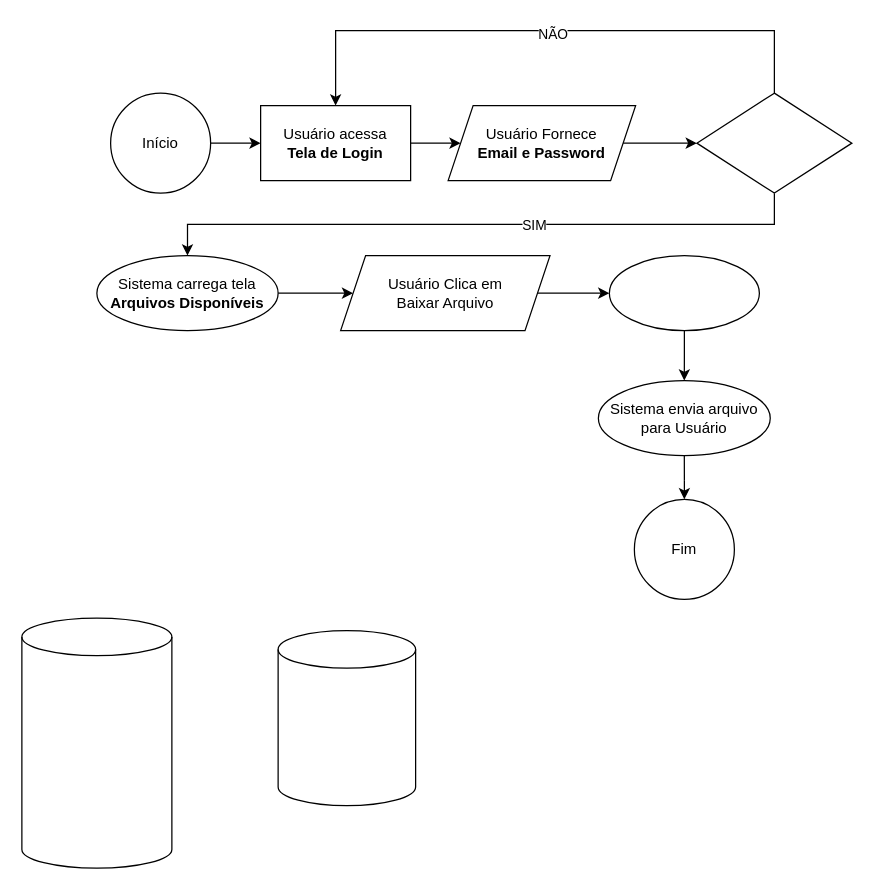
This 874x890 diagram has some shape labels left out. The centre of each missing label's shape, as x and y in pixels:
FILES id: pk file_name: string file_path: string status: boolean: point (346, 717)
Login Validado?: point (774, 142)
Sistema Grava Log de download: point (683, 292)
USUÁRIOS id: pk name: string user: string password: string status: boolean: point (96, 742)
